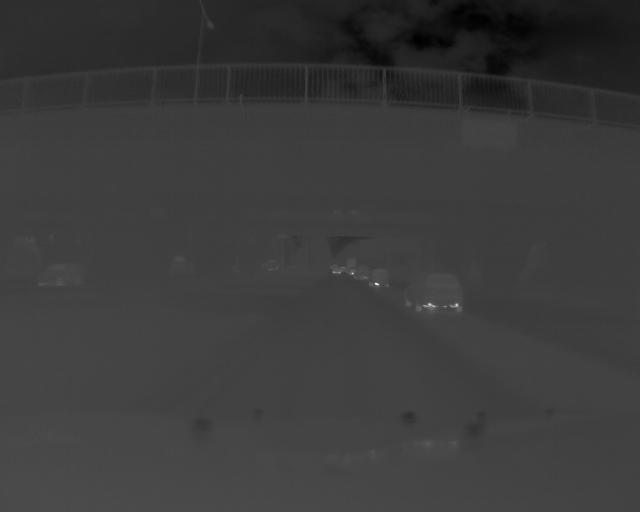car: (402, 270, 467, 315), (36, 260, 87, 290), (368, 264, 392, 290)
